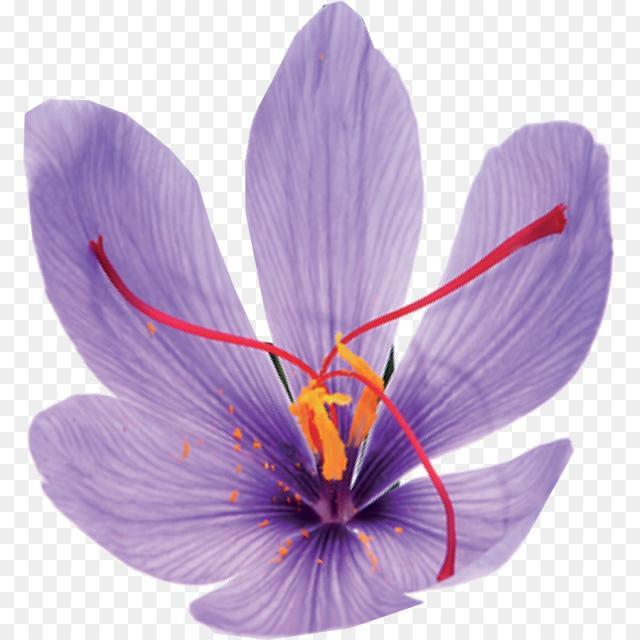Flower: (66, 119, 591, 613)
stigma: (312, 186, 578, 375), (79, 206, 322, 390), (306, 367, 462, 587)
